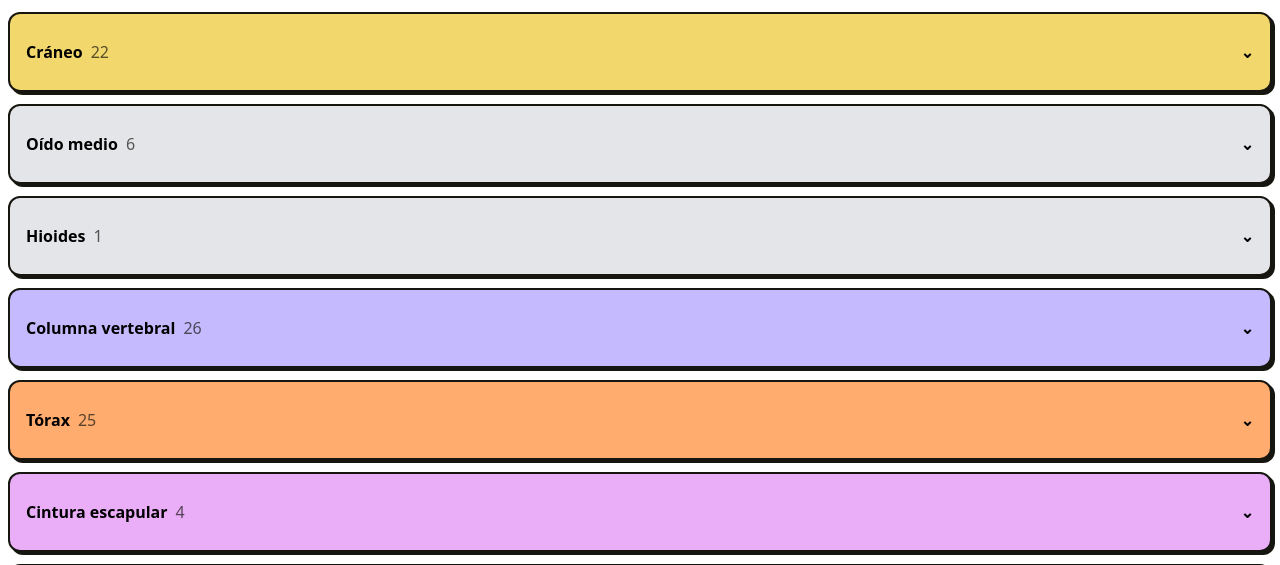
FichasAccordion › expandir "Cráneo" quita `inert` de su contenido y muestra sus 2 subgrupos y sus 22 etiquetas
The width and height of the screenshot is (1280, 565).
Click the button "Cráneo22 ⌄". click: coordinates (54, 52)
box: x1=8 y1=12 x2=1272 y2=92
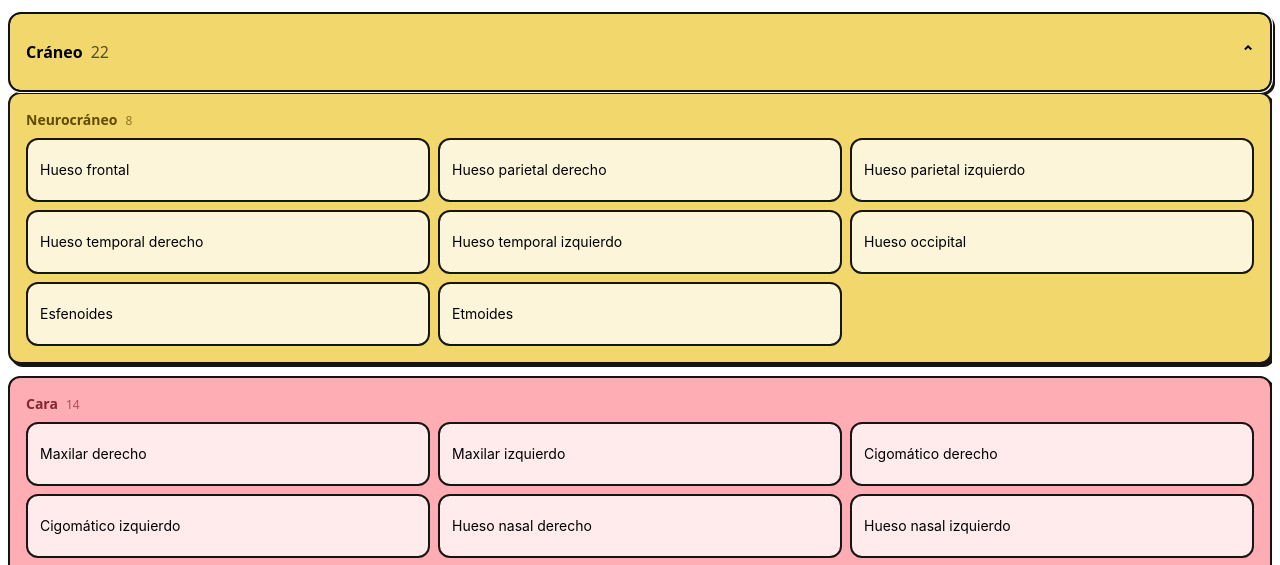
Result: the button "Cráneo22 ⌄" is expanded at x1=8 y1=12 x2=1272 y2=92
Result: the heading "Neurocráneo 8" is shown at x1=26 y1=110 x2=132 y2=129
Result: the heading "Cara 14" is shown at x1=26 y1=394 x2=80 y2=413
